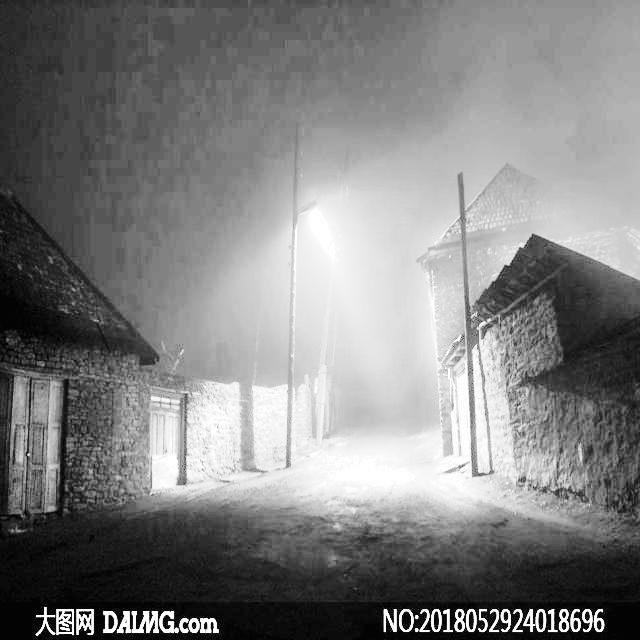Light: (285, 197, 349, 468)
